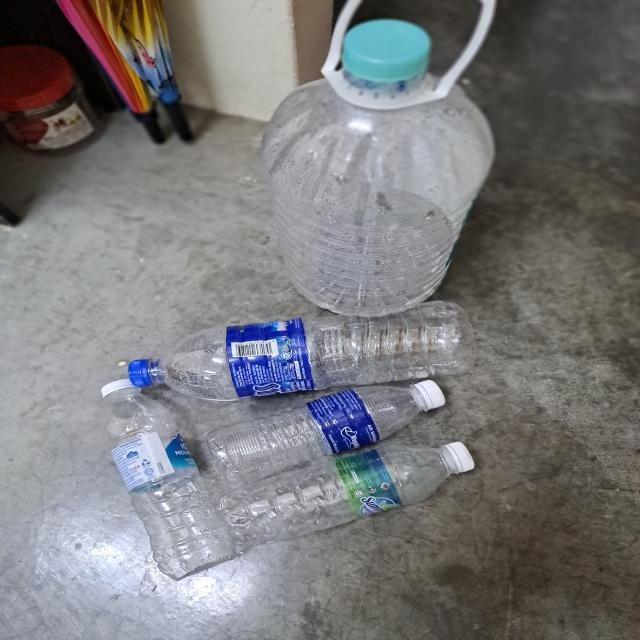plastic bottle: (272, 77, 499, 316), (172, 298, 482, 397), (101, 402, 242, 580), (191, 387, 427, 477), (248, 442, 460, 540)
plastic bottle cap: (342, 15, 436, 88), (97, 372, 146, 399), (421, 376, 457, 410), (447, 439, 479, 470), (131, 356, 157, 386)
